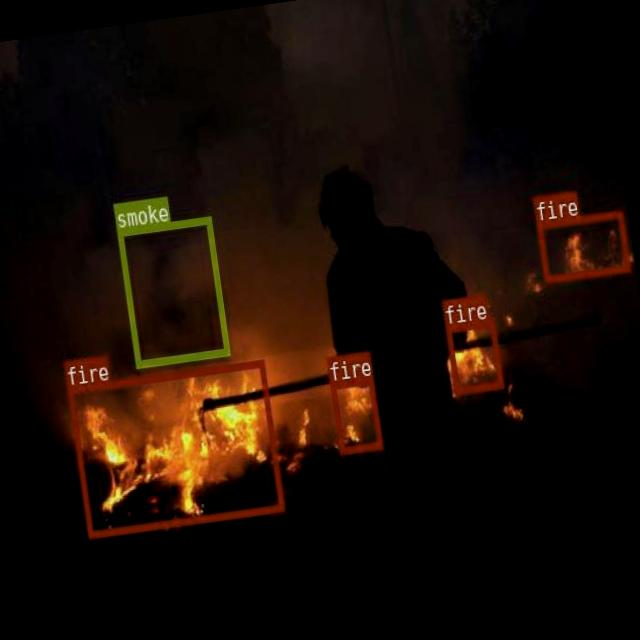fire: (68, 358, 284, 538), (535, 209, 630, 282), (444, 319, 504, 393), (329, 375, 382, 453)
smoke: (116, 216, 230, 367)
